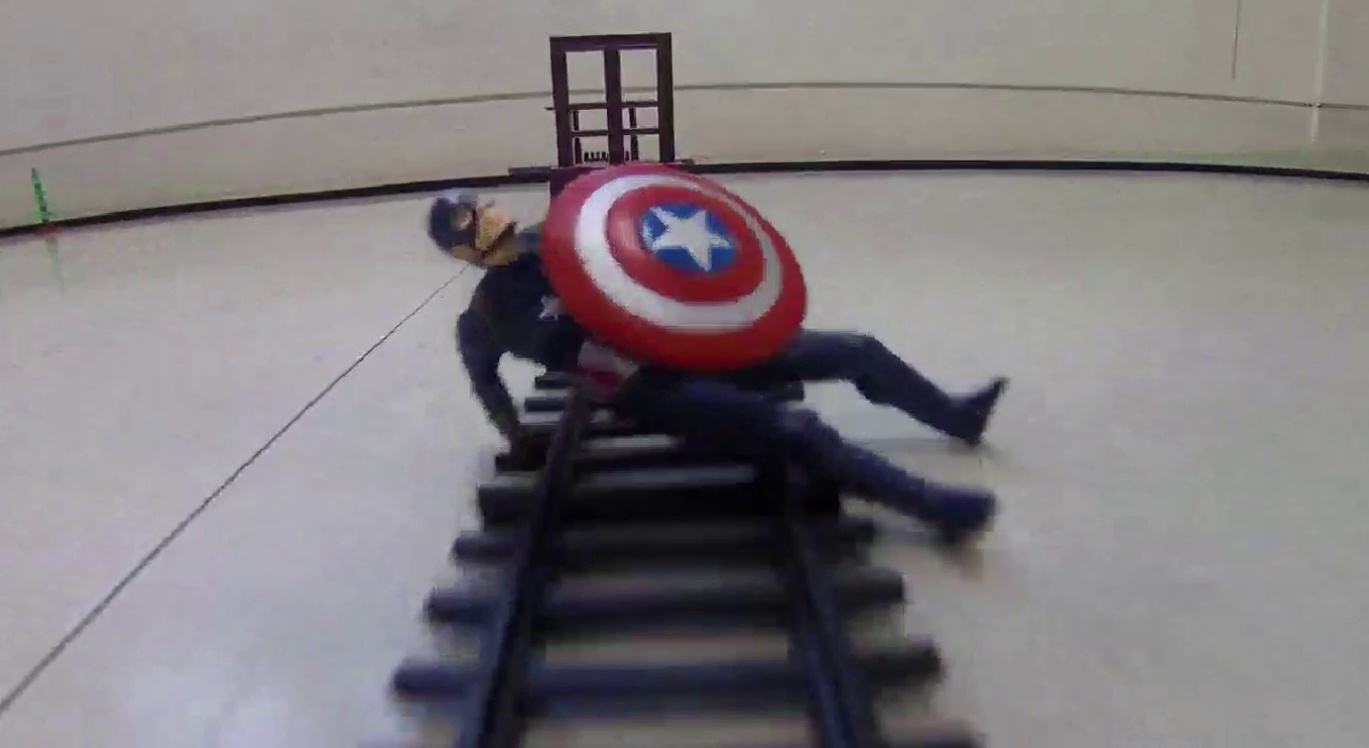people: (429, 160, 1012, 548)
